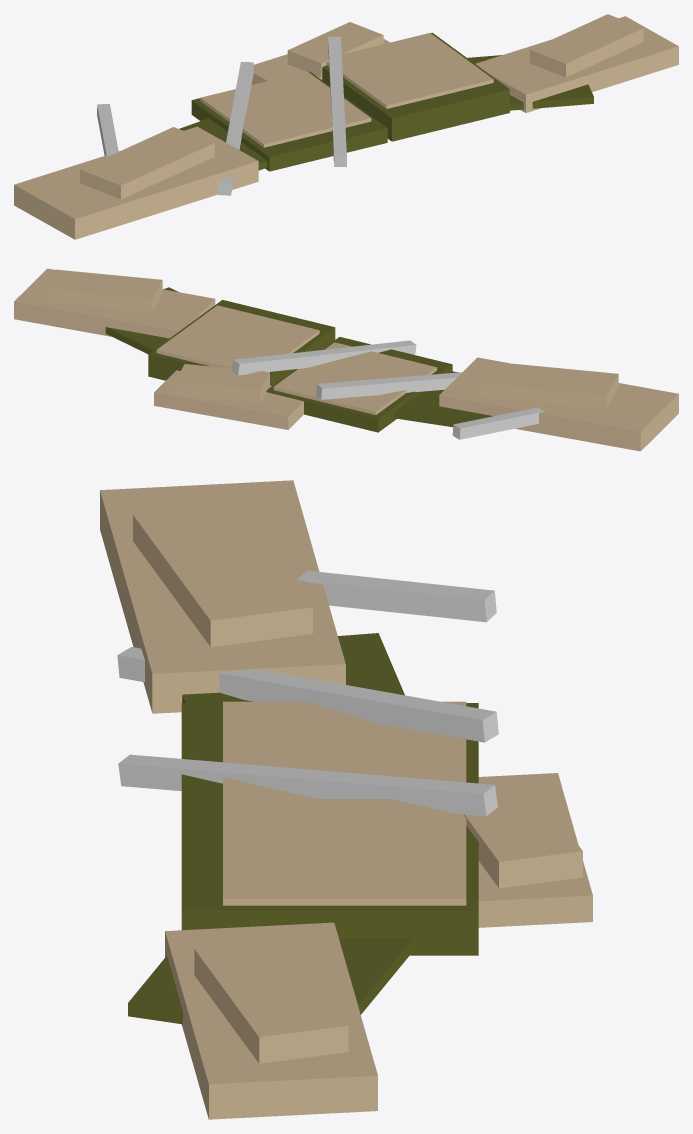
The model's file is SM_HescoCorto2_v1_Geotextil_e3_Brecha_LOD1.fbx.
3 views of the same model, one above another, from view 1: azimuth 30°, elevation 25°; view 2: azimuth 150°, elevation 25°; view 3: azimuth 270°, elevation 25° (orthographic). The views are drawn at different scales.
Visible parts, largest first — view 1: SM_hesco_piezas_v67_LOD1; view 2: SM_hesco_piezas_v67_LOD1; view 3: SM_hesco_piezas_v67_LOD1.
Part boxes in pixels (bbox=[...]): SM_hesco_piezas_v67_LOD1: bbox=[14, 14, 678, 239]; SM_hesco_piezas_v67_LOD1: bbox=[14, 268, 678, 451]; SM_hesco_piezas_v67_LOD1: bbox=[100, 480, 592, 1119].
Bounding box in the file's own units: 5.83 × 0.351 × 2.02.
